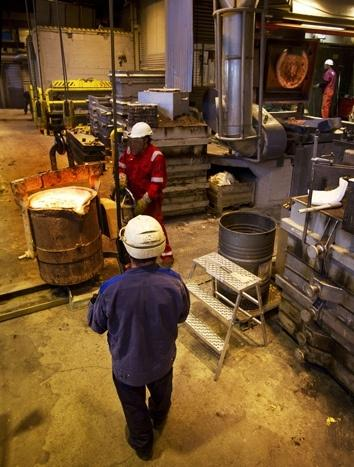capacete: (114, 214, 180, 270), (126, 123, 155, 139), (321, 57, 338, 67)
pessoa: (88, 216, 190, 462), (120, 124, 168, 218), (318, 58, 339, 124)
